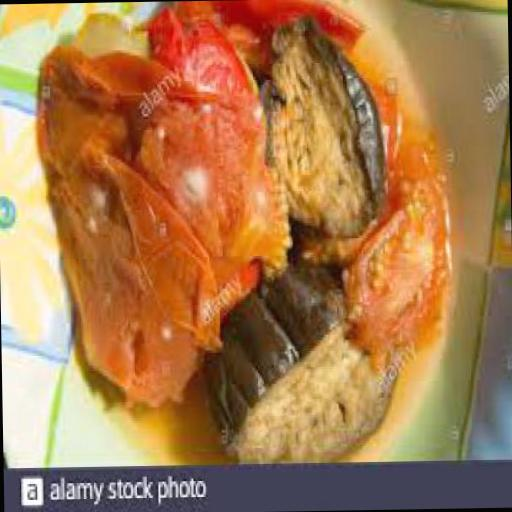biodegradable: (37, 36, 292, 404), (196, 227, 398, 460), (330, 113, 454, 364), (282, 51, 409, 280), (256, 14, 382, 240), (145, 0, 366, 116)
